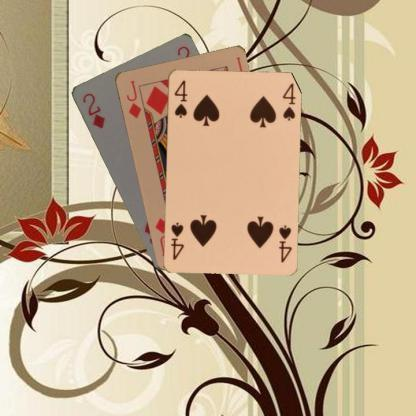2d: (80, 90, 107, 130)
4s: (275, 223, 294, 264), (172, 76, 188, 118)
Jd: (124, 78, 142, 119)
